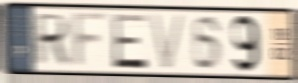6: (190, 14, 224, 71)
9: (230, 13, 262, 74)
E: (110, 12, 149, 71)
F: (71, 10, 111, 71)
R: (33, 12, 71, 67)
V: (147, 12, 188, 73)
